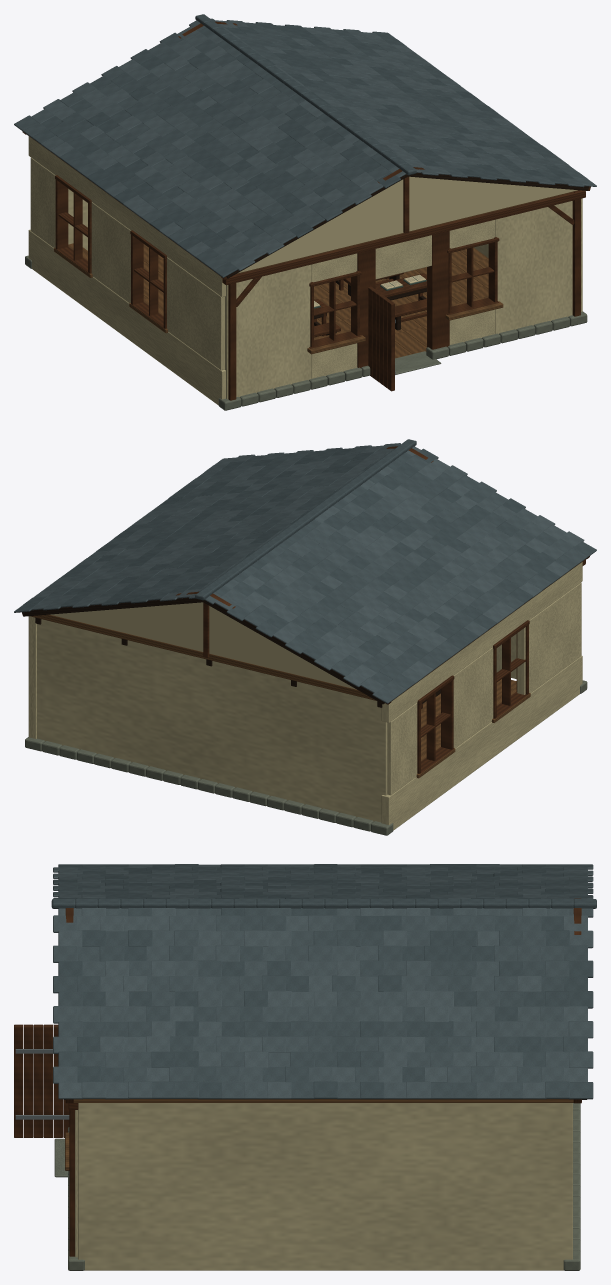
The model's file is schoolhouse.glb.
3 views of the same model, one above another, from view 1: azimuth 30°, elevation 25°; view 2: azimuth 150°, elevation 25°; view 3: azimuth 270°, elevation 25° (orthographic). The views are drawn at different scales.
Parts seen in each view (by area): view 1: Limewash, Aged oak, Slate 1, Slate 3, Slate 2, Slate 4, Slate 0, Worn floorboards, Foundation limestone, Dark endgrain; view 2: Limewash, Slate 1, Slate 3, Slate 2, Slate 4, Slate 0, Aged oak, Foundation limestone, Worn floorboards, Dark endgrain; view 3: Limewash, Slate 1, Slate 3, Slate 2, Slate 4, Slate 0, Aged oak, Foundation limestone, Worn floorboards.
Part boxes in pixels (box(x1,y1,x2,y2)): Limewash: box(28, 136, 582, 405); Aged oak: box(22, 21, 590, 400); Slate 1: box(32, 14, 566, 277); Slate 3: box(31, 20, 587, 255); Slate 2: box(14, 18, 557, 270); Slate 4: box(43, 20, 596, 270); Slate 0: box(77, 22, 574, 251); Worn floorboards: box(27, 135, 580, 358); Foundation limestone: box(25, 255, 587, 410); Dark endgrain: box(226, 173, 588, 335); Limewash: box(28, 562, 582, 830); Slate 1: box(14, 439, 596, 689); Slate 3: box(41, 443, 564, 692); Slate 2: box(42, 445, 587, 703); Slate 4: box(31, 444, 584, 687); Slate 0: box(78, 448, 560, 658); Aged oak: box(22, 446, 589, 773); Foundation limestone: box(25, 680, 587, 835); Worn floorboards: box(30, 559, 585, 827); Dark endgrain: box(22, 597, 440, 707); Limewash: box(75, 1103, 572, 1270); Slate 1: box(51, 864, 596, 1099); Slate 3: box(53, 864, 593, 1099); Slate 2: box(53, 864, 593, 1099); Slate 4: box(53, 864, 593, 1099); Slate 0: box(53, 864, 593, 1099); Aged oak: box(14, 898, 581, 1256); Foundation limestone: box(54, 1103, 580, 1270); Worn floorboards: box(65, 1099, 573, 1170).
Size of the model in its own units: 10.6 by 5.5 by 11.19.
Materials: 15 (13 with a texture image).
